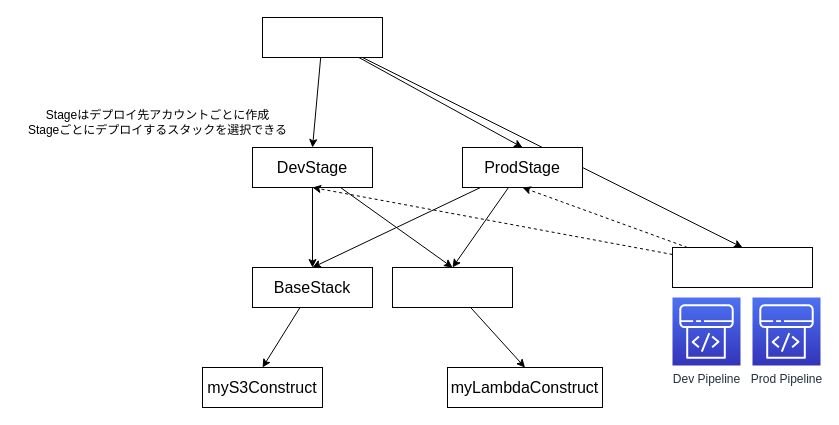
Some shapes in this 839 by 425 pixel diagram are drawn without their labels. Here are the shapes that lost their labels. From the top down, the centre of each, then its label:
At (x=322, y=37): "App".
At (x=452, y=287): "MainAppStack".
At (x=742, y=267): "CDKPipelineStack".
